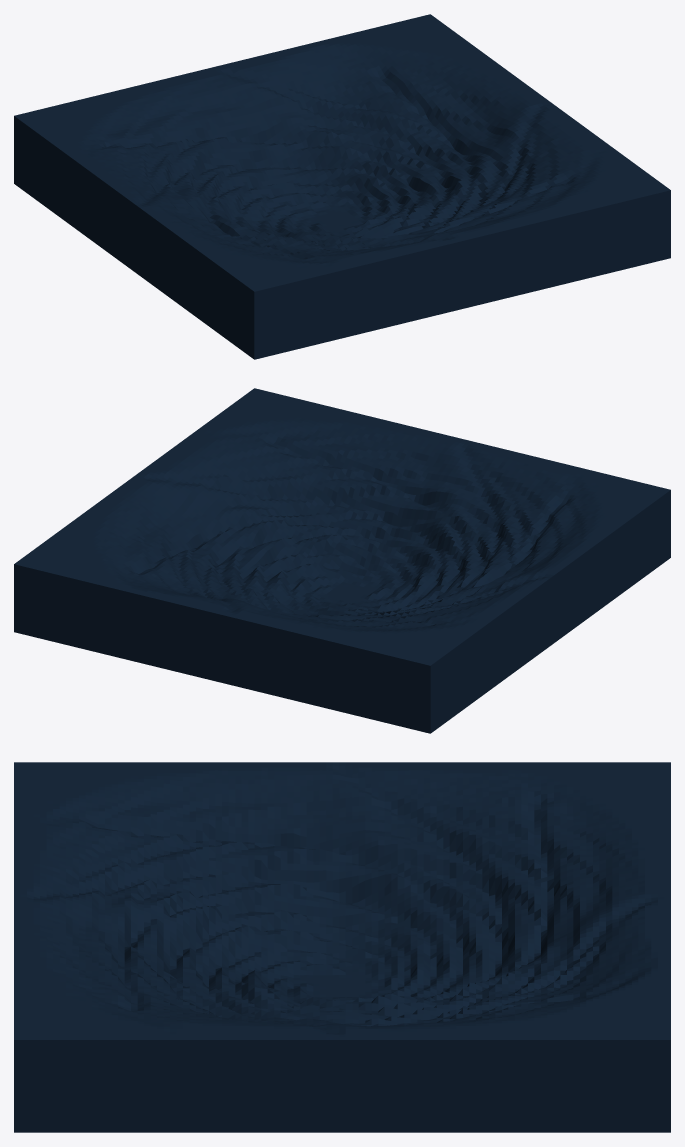
Rendered from blue.obj.
The picture shows the model from 3 angles, top to bottom: view 1: azimuth 30°, elevation 25°; view 2: azimuth 150°, elevation 25°; view 3: azimuth 270°, elevation 25°; orthographic projection. The views are drawn at different scales.
Visible parts, largest first — view 1: Plane, Cube_Cube.001; view 2: Plane, Cube_Cube.001; view 3: Plane, Cube_Cube.001.
Part boxes in pixels (bbox=[...]): Plane: bbox=[14, 14, 670, 291]; Cube_Cube.001: bbox=[14, 116, 670, 359]; Plane: bbox=[14, 388, 670, 665]; Cube_Cube.001: bbox=[14, 490, 670, 733]; Plane: bbox=[14, 762, 670, 1039]; Cube_Cube.001: bbox=[14, 1040, 670, 1132].
Size of the model in its own units: 16 by 2.5 by 16.
